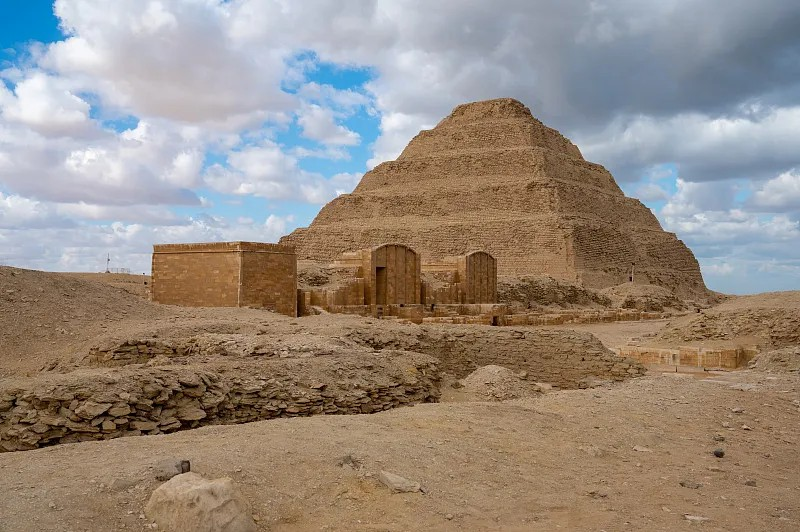Pyramid: (276, 100, 708, 289)
